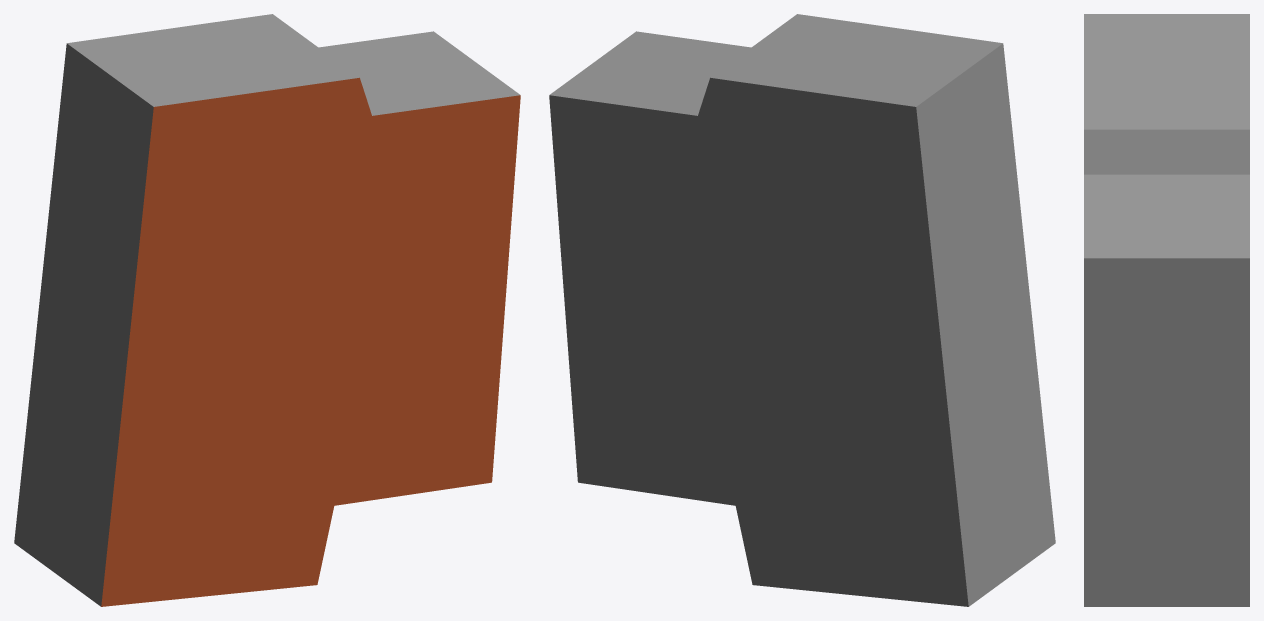
File: construction_6152_assumed_A_Casa_h6m.obj
3 renders of one model, left to right at view 1: azimuth 30°, elevation 25°; view 2: azimuth 150°, elevation 25°; view 3: azimuth 270°, elevation 25°, orthographic. The views are drawn at different scales.
Parts seen in each view (by area): view 1: construction_6152_assumed_A_Casa; view 2: construction_6152_assumed_A_Casa; view 3: construction_6152_assumed_A_Casa.
Boxes of the visible parts, <box> form: construction_6152_assumed_A_Casa: <box>14,14,520,606</box>; construction_6152_assumed_A_Casa: <box>549,14,1055,606</box>; construction_6152_assumed_A_Casa: <box>1084,14,1249,606</box>.
Size of the model in its own units: 16.68 by 19.68 by 6.
